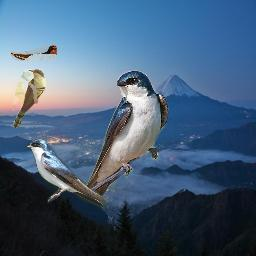Cuckoo: (13, 69, 46, 128)
Swallow: (79, 69, 169, 198), (26, 139, 108, 207), (11, 45, 57, 61)
